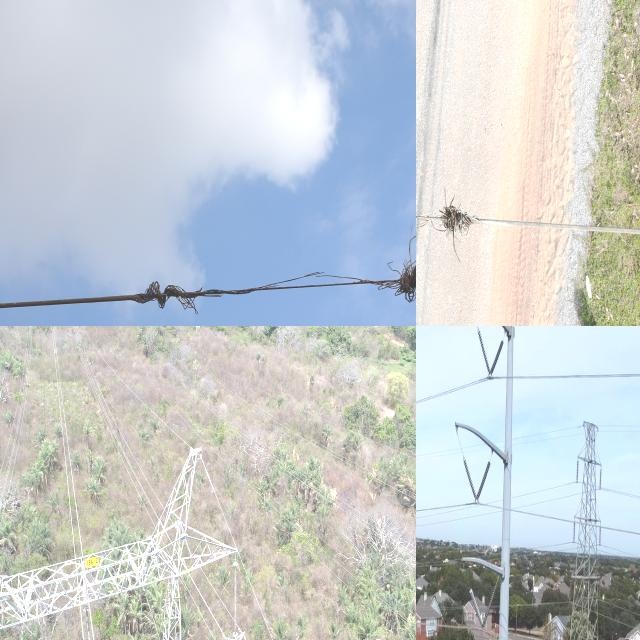杆塔: (0, 446, 256, 640), (546, 407, 609, 640)
正常绝缘子: (456, 446, 482, 510), (469, 452, 494, 515), (481, 332, 507, 390), (471, 326, 496, 382), (464, 573, 486, 634), (477, 577, 498, 638), (232, 561, 238, 638), (83, 606, 92, 640), (598, 463, 603, 492), (598, 520, 603, 548), (575, 454, 579, 485), (572, 518, 576, 546)
电缆破损: (135, 262, 416, 319), (416, 172, 480, 246)
